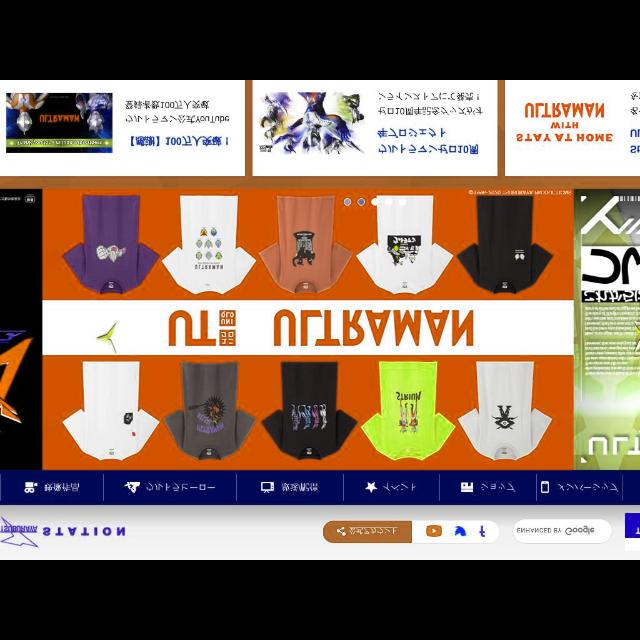icon: (260, 481, 276, 494), (124, 480, 140, 492), (24, 482, 38, 494), (459, 481, 473, 492), (364, 483, 378, 493), (540, 481, 550, 494), (336, 526, 346, 536)
image: (1, 176, 639, 468), (260, 92, 362, 154), (8, 94, 112, 152), (2, 512, 126, 550), (516, 98, 614, 144), (426, 526, 442, 536), (454, 526, 468, 536), (478, 526, 487, 538)
multitab: (1, 470, 639, 504)
pageindicator: (344, 197, 408, 207)
text: (380, 90, 484, 116), (125, 98, 228, 124), (377, 128, 479, 154), (130, 133, 232, 147), (144, 481, 216, 491), (558, 481, 618, 492), (517, 526, 595, 534), (282, 482, 318, 494), (349, 527, 396, 535), (480, 481, 516, 491), (44, 482, 80, 492), (384, 481, 416, 492)
textbutton: (514, 518, 612, 542), (324, 520, 412, 542)
toolbar: (1, 505, 639, 557)
